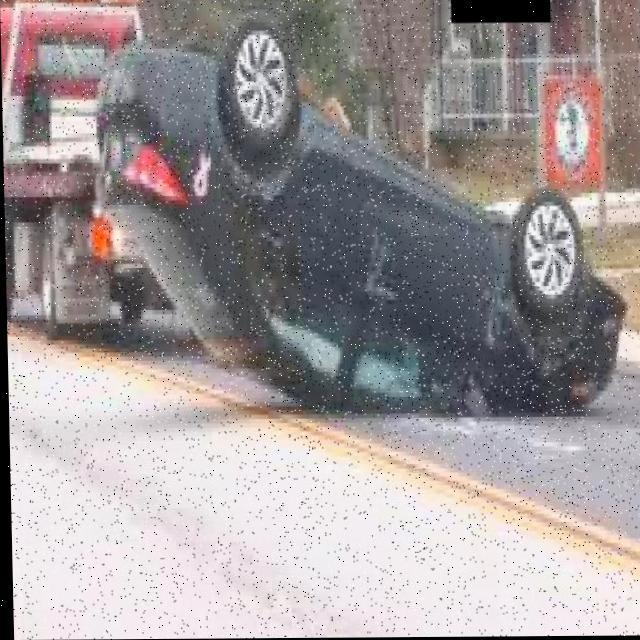single accident: (62, 8, 640, 483)
